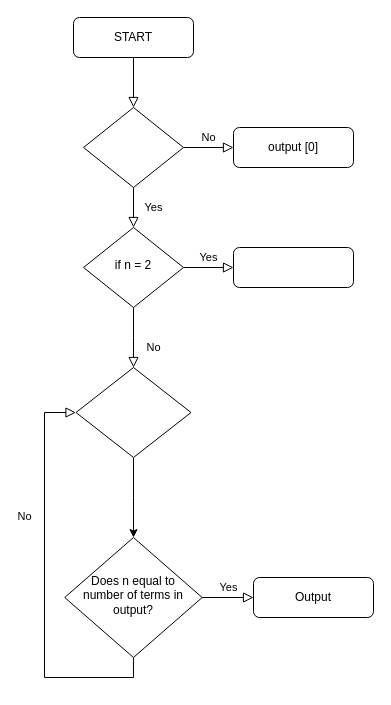
This 391x705 diagram has some shape labels left out. The shapes that lost their labels are listed below. From the top down, each one's centre as x and y in pixels, then its label:
the point at 133,147: if n = 1
the point at 293,267: Output [0, 1]
the point at 133,412: Sum of last 2 numbers
